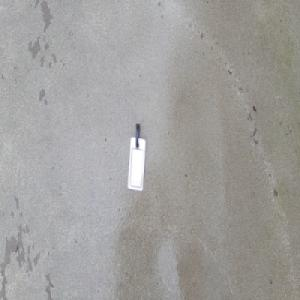LuggageTag: (126, 122, 147, 193)
